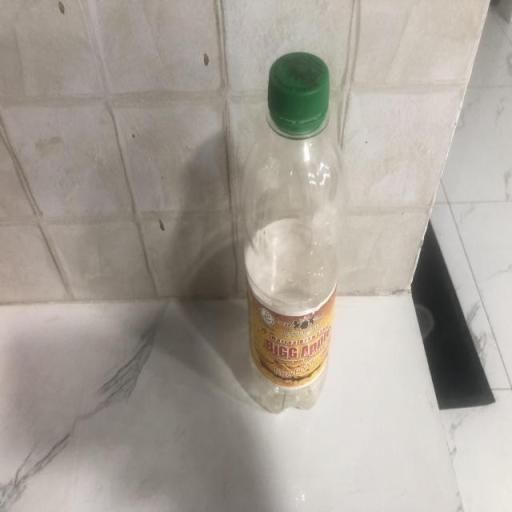plastic: (242, 51, 341, 414)
